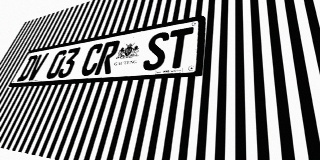0: (44, 49, 69, 79)
3: (56, 47, 81, 78)
C: (78, 43, 105, 76)
D: (16, 55, 39, 81)
R: (94, 40, 121, 75)
S: (141, 31, 170, 71)
T: (164, 27, 194, 69)
V: (26, 53, 49, 81)
